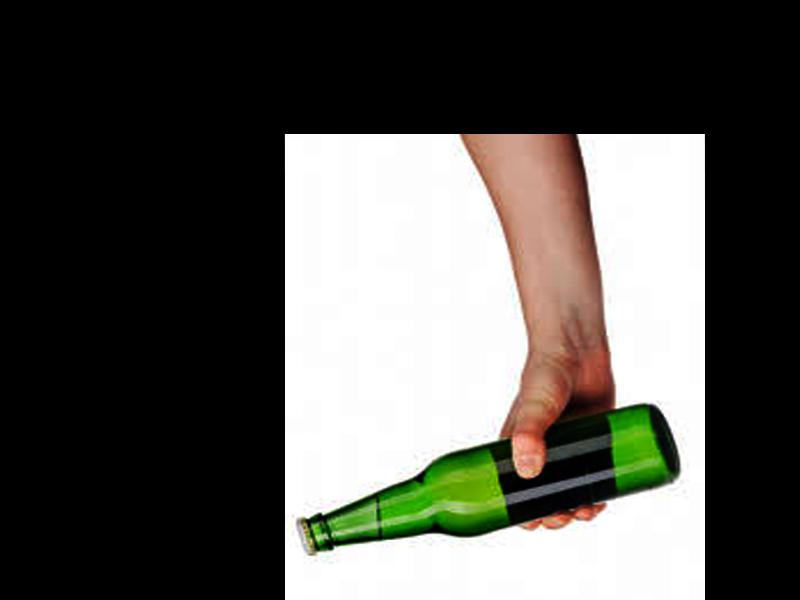Beer: (296, 404, 680, 555)
